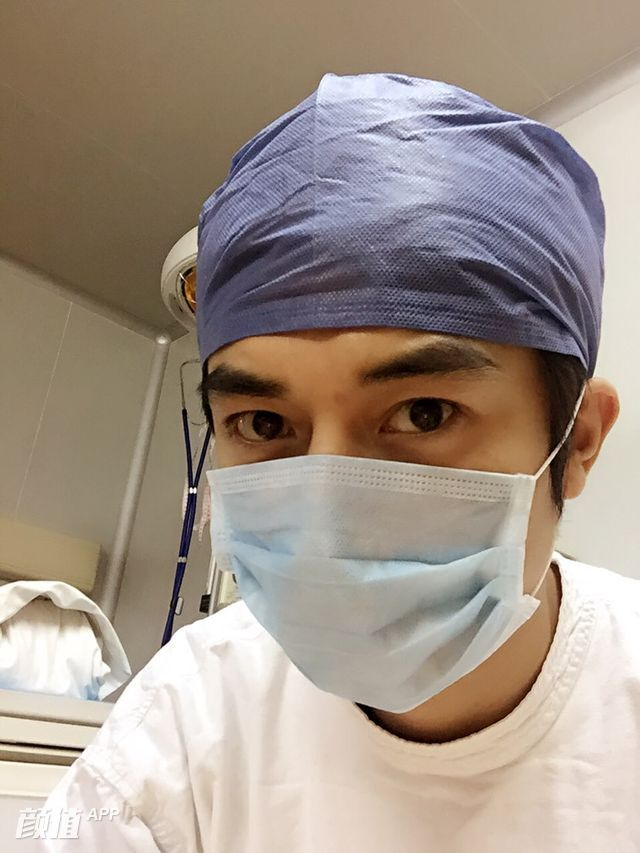face_mask: (208, 241, 554, 709)
